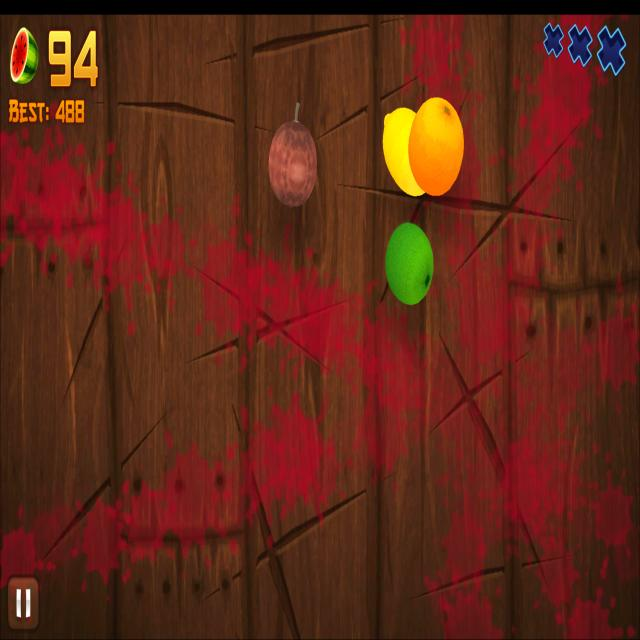fruit: (408, 95, 464, 197), (268, 119, 318, 209), (382, 104, 428, 198), (384, 220, 434, 306)
